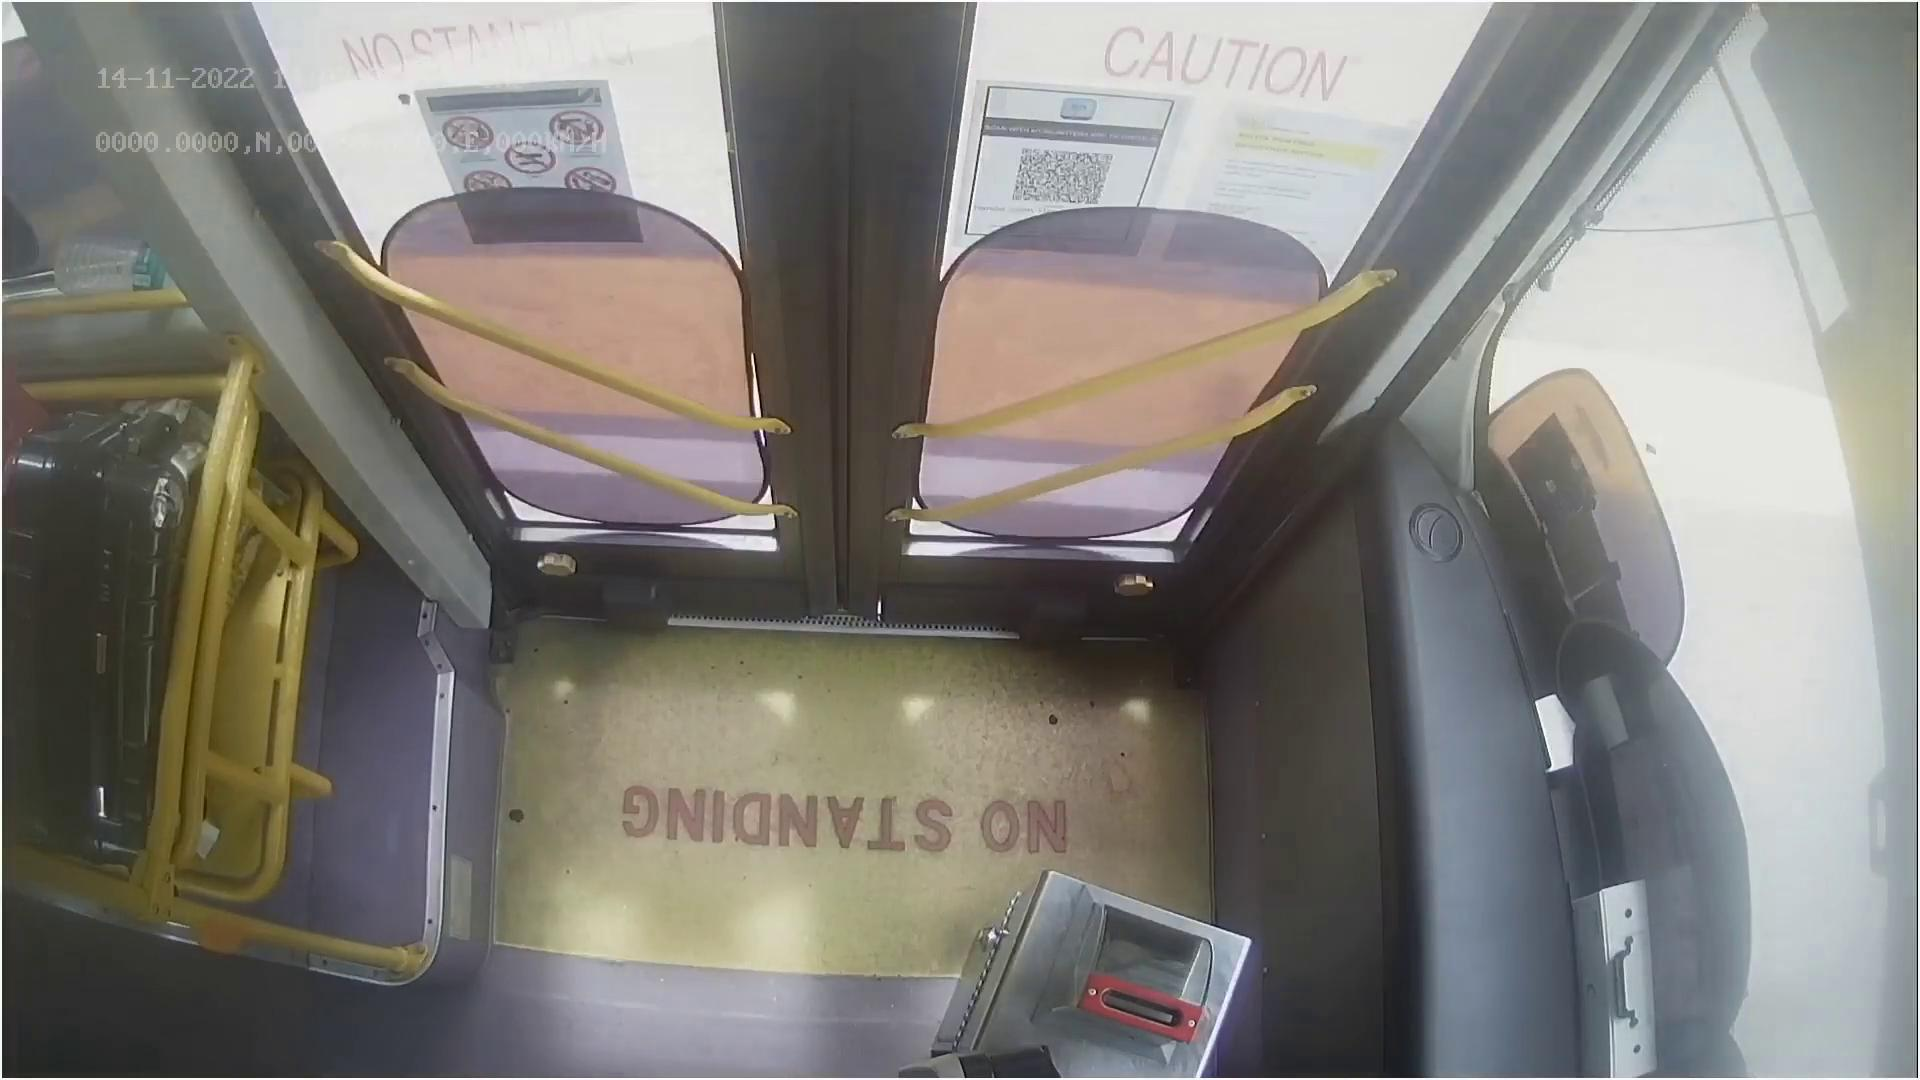close: (282, 0, 1441, 166)
